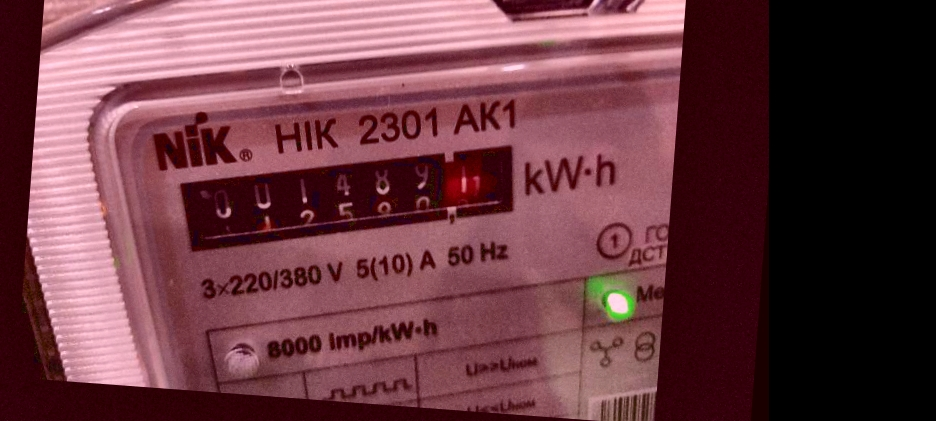0: (247, 174, 276, 212), (209, 185, 235, 222)
1: (452, 157, 474, 196), (292, 173, 314, 205)
4: (331, 166, 355, 198)
8: (371, 161, 394, 198)
9: (410, 158, 433, 191)
screen: (162, 110, 548, 288)
